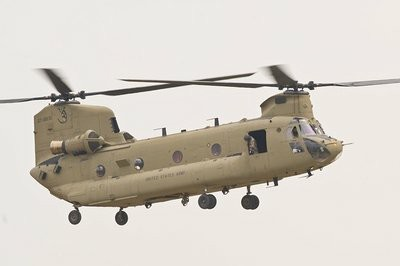chinook: (13, 68, 400, 228)
